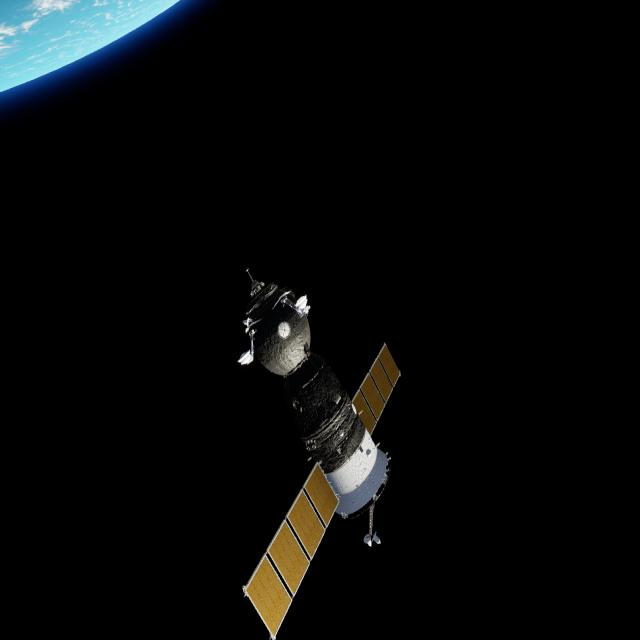Satellites revolving around earth: (234, 266, 403, 638)
